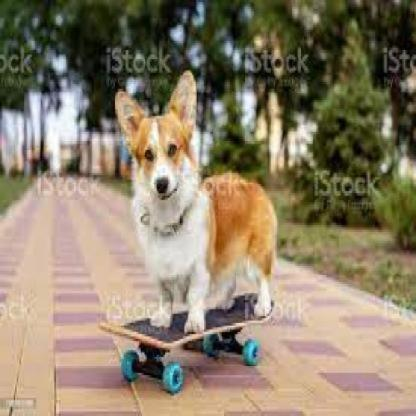dog: (114, 70, 278, 334)
